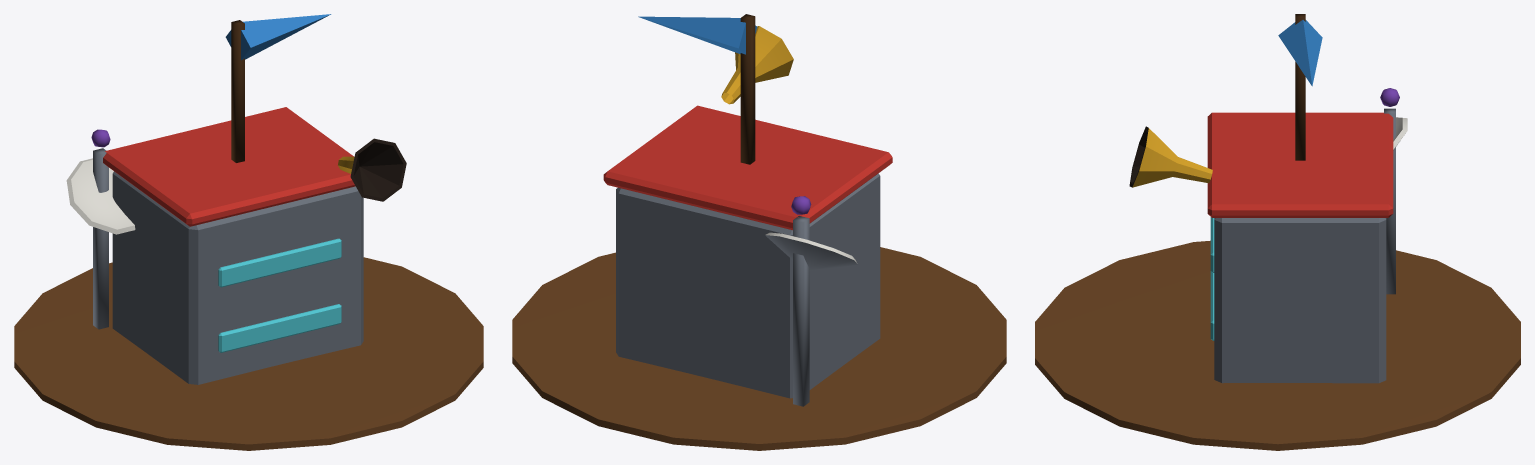
The picture shows the model from 3 angles, left to right: view 1: azimuth 30°, elevation 25°; view 2: azimuth 150°, elevation 25°; view 3: azimuth 270°, elevation 25°; orthographic projection. The views are drawn at different scales.
Parts seen in each view (by area): view 1: vila_0_base, vila_1_torreta; view 2: vila_0_base, vila_1_torreta; view 3: vila_0_base, vila_1_torreta.
Part boxes in pixels (bbox=[...]): vila_0_base: bbox=[14, 107, 483, 450]; vila_1_torreta: bbox=[225, 14, 331, 162]; vila_0_base: bbox=[512, 26, 1006, 450]; vila_1_torreta: bbox=[638, 14, 757, 164]; vila_0_base: bbox=[1035, 88, 1520, 450]; vila_1_torreta: bbox=[1278, 14, 1322, 160].
Bounding box in the file's own units: 1.32 × 0.98 × 1.3.
